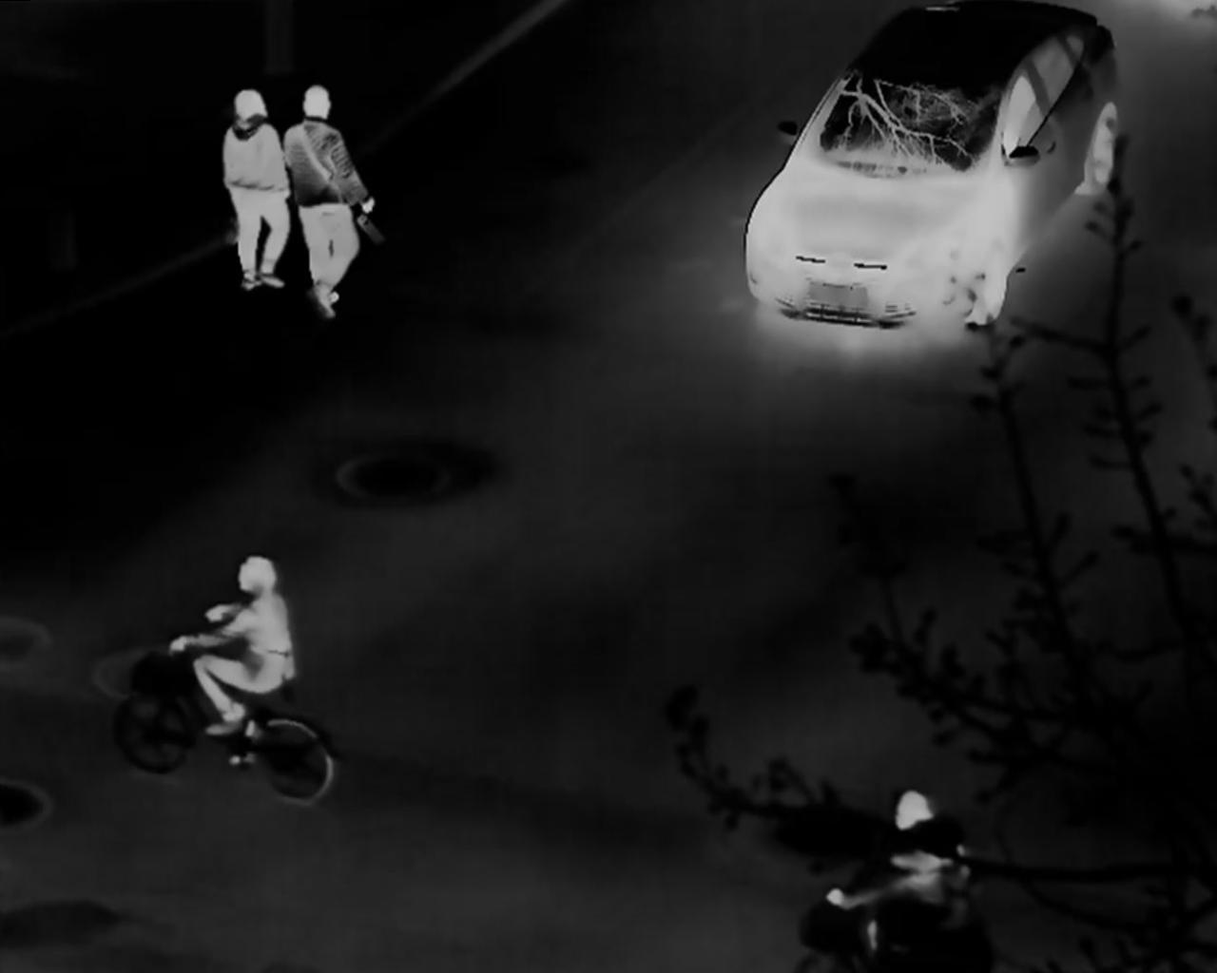person: (824, 788, 970, 953), (169, 556, 297, 736), (283, 83, 375, 316), (222, 89, 291, 291)
